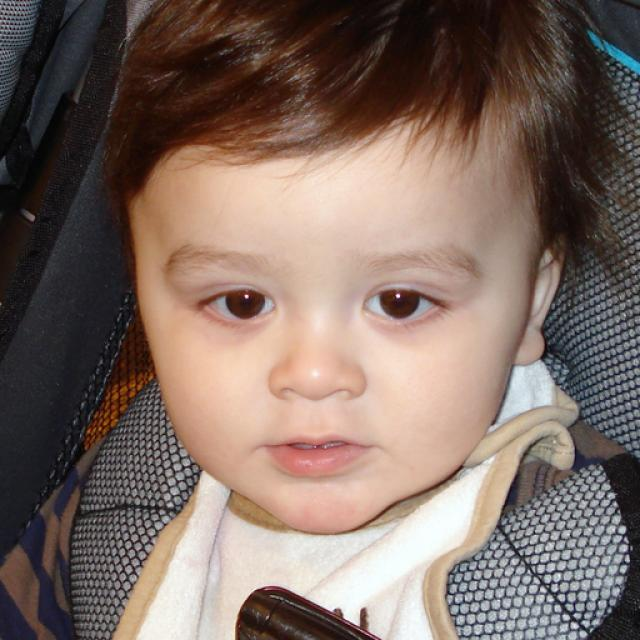neutral: (134, 118, 518, 532)
